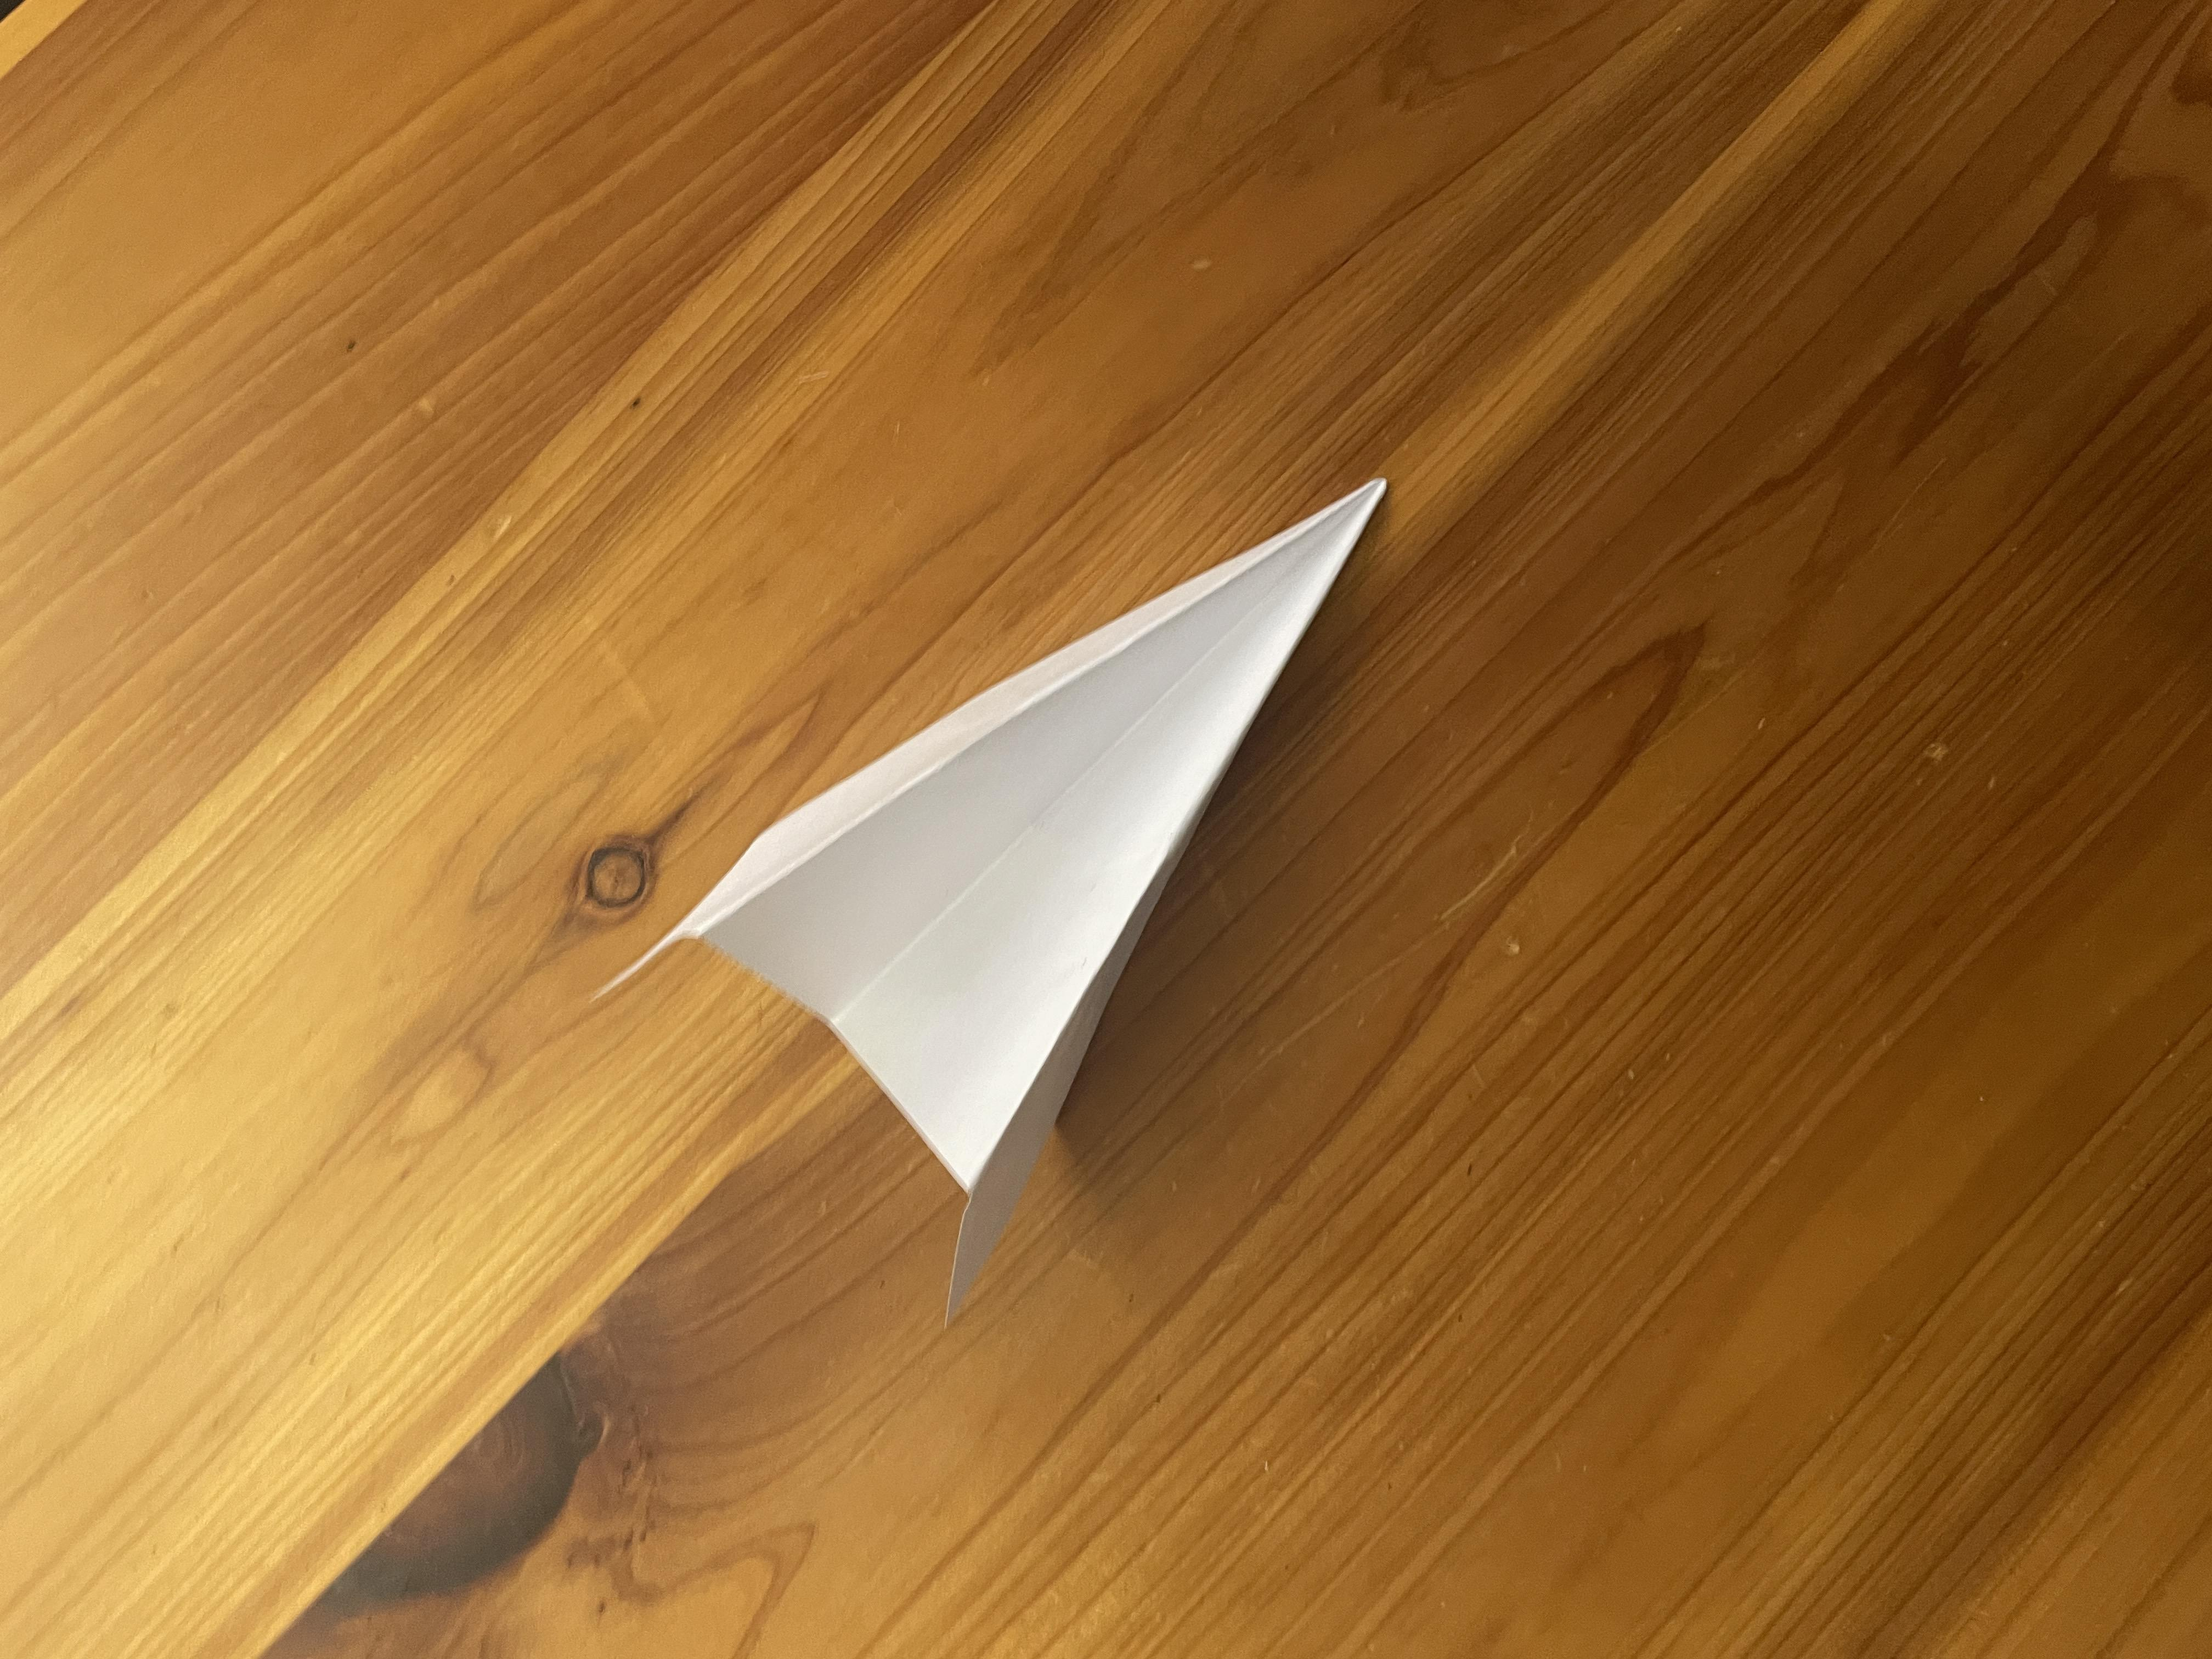shape_3: (545, 338, 1503, 1333)
